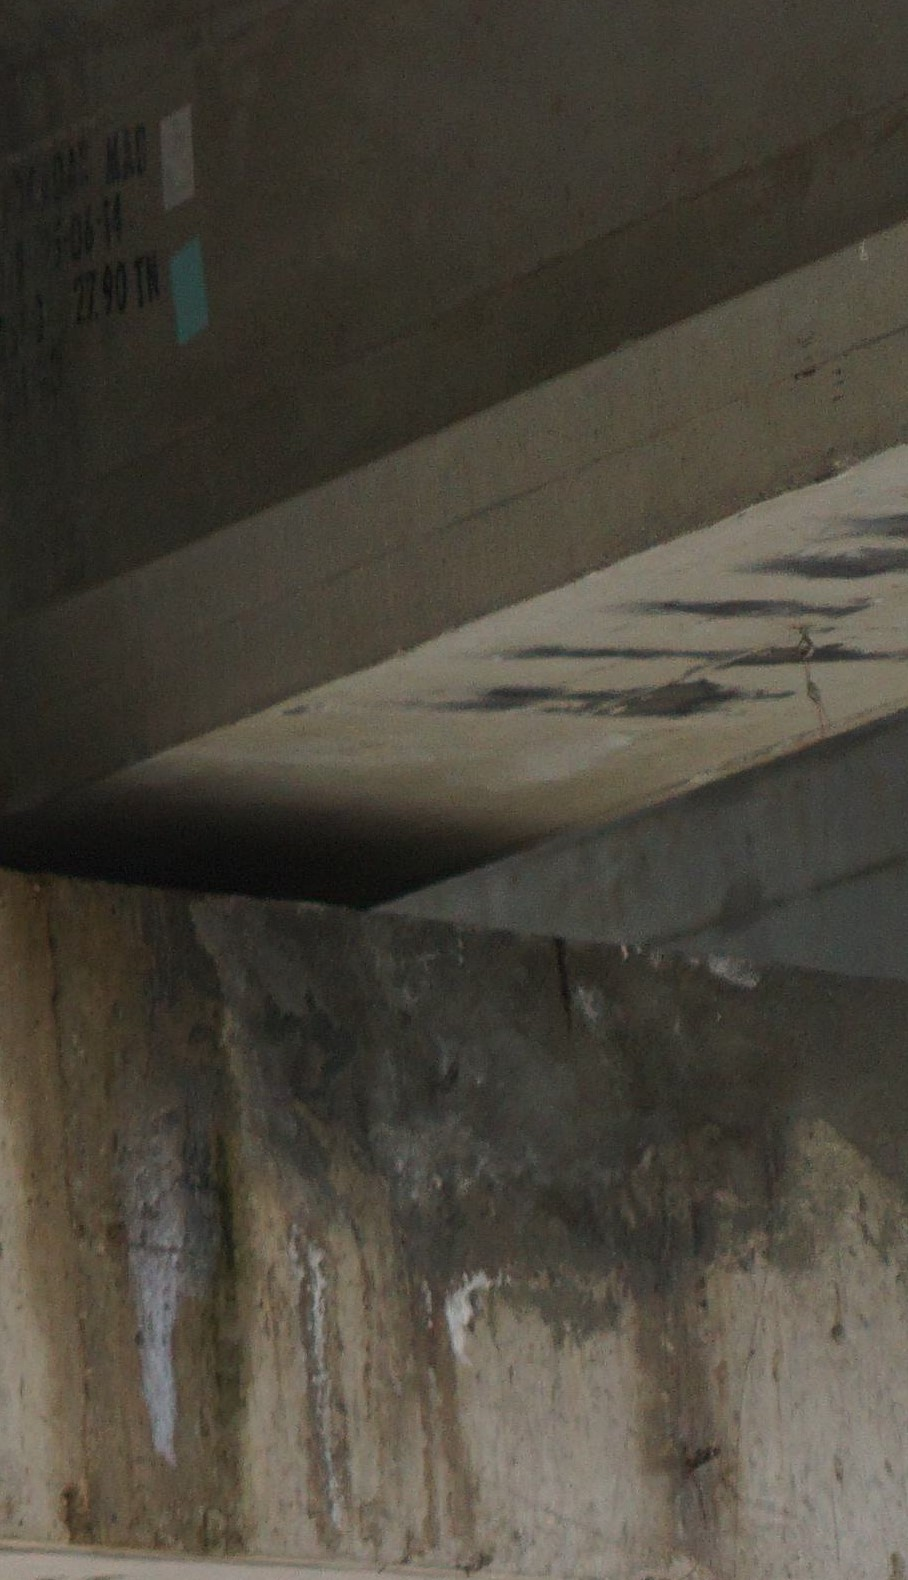Corrosion: (1, 867, 908, 1562)
Spalling: (397, 677, 794, 718), (495, 642, 908, 676), (732, 546, 908, 579), (624, 600, 871, 619), (810, 511, 908, 541)
